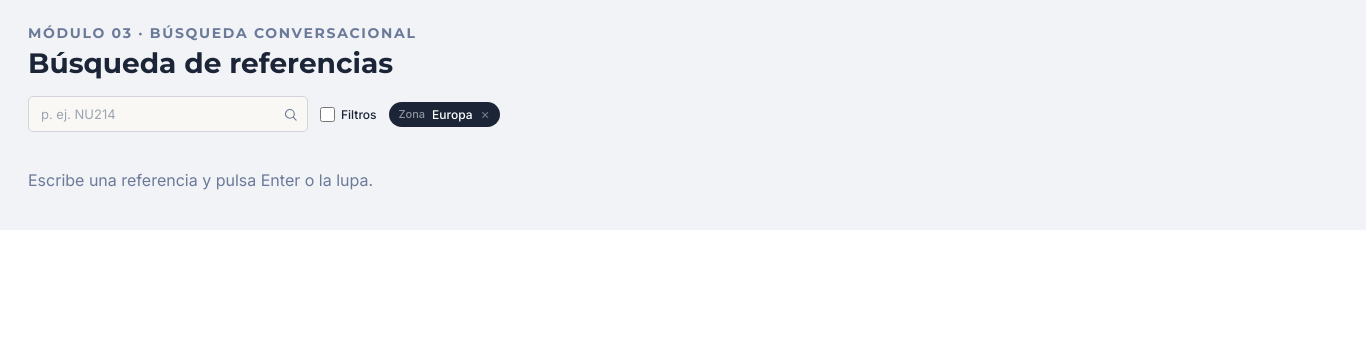
Test: fases B y C · selección y ofertas › las marcadas a mano: pide sus ofertas por clave y pinta la tabla
Type "6204" into the search field named "Referencia". click: [168, 114]
box: [28,96,308,132]
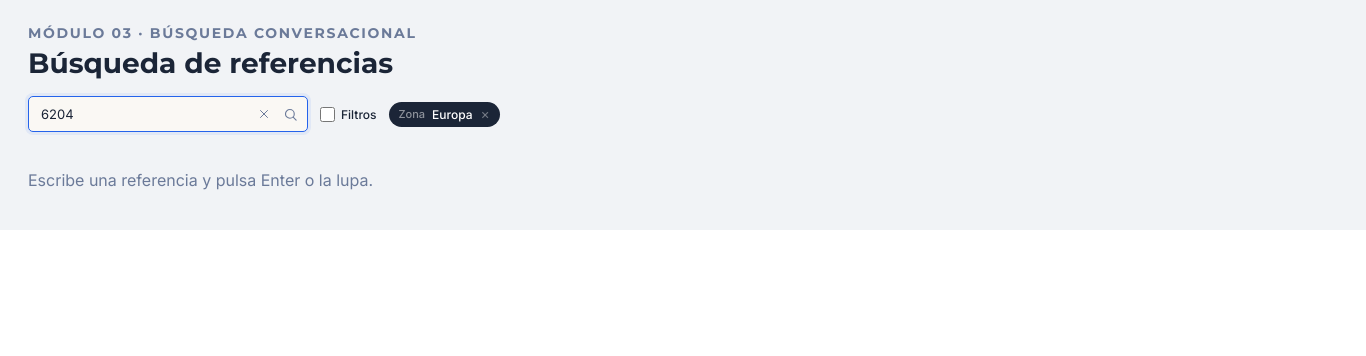
Click the button named "Buscar referencia". click: [290, 114]
box: [276,100,304,128]
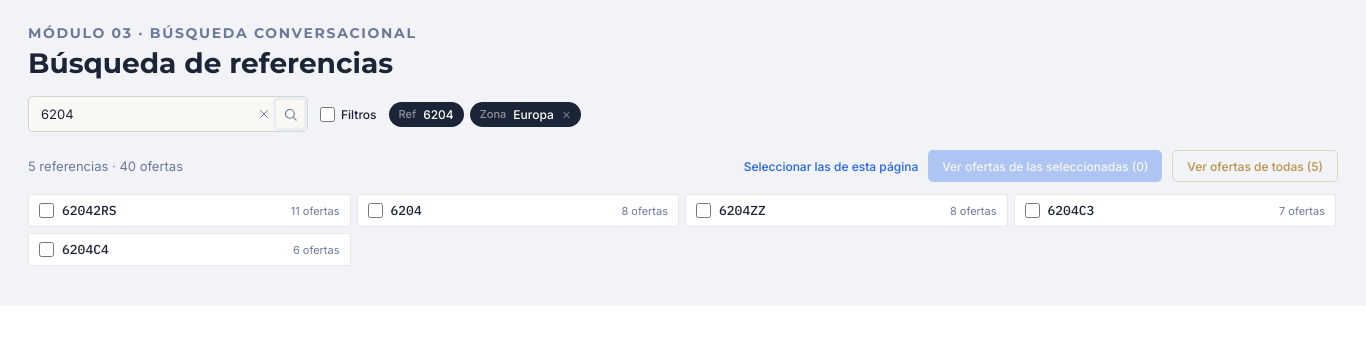
Click the checkbox labelled "62042RS 11 ofertas". click: [46, 210]
box: [39,203,54,218]
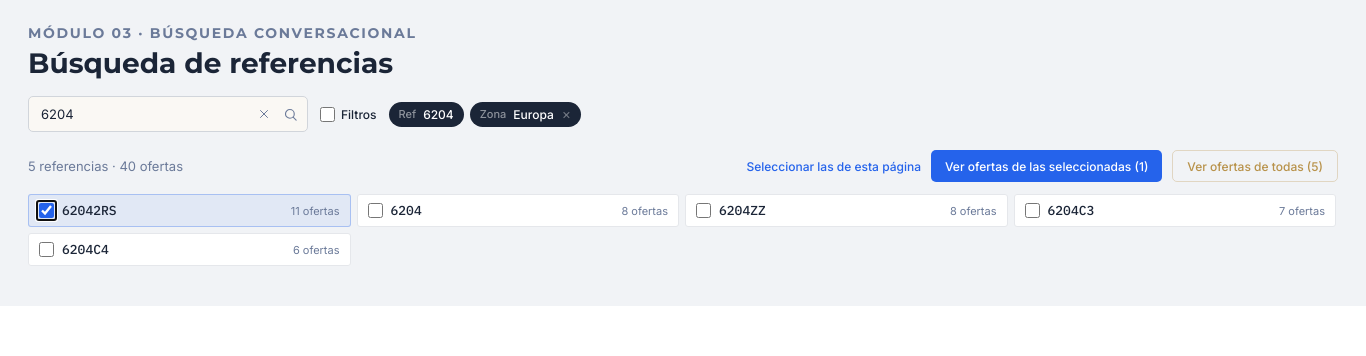
Click the checkbox labelled "6204ZZ 8 ofertas". click: [704, 210]
box: [696,203,711,218]
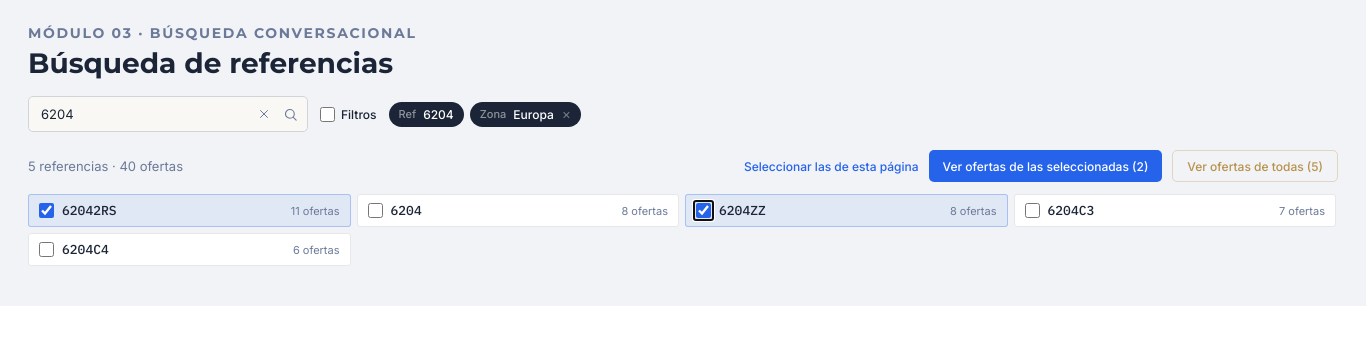
Click the button "Ver ofertas de las seleccionadas (2)". click: [1045, 166]
box: [928,150,1162,182]
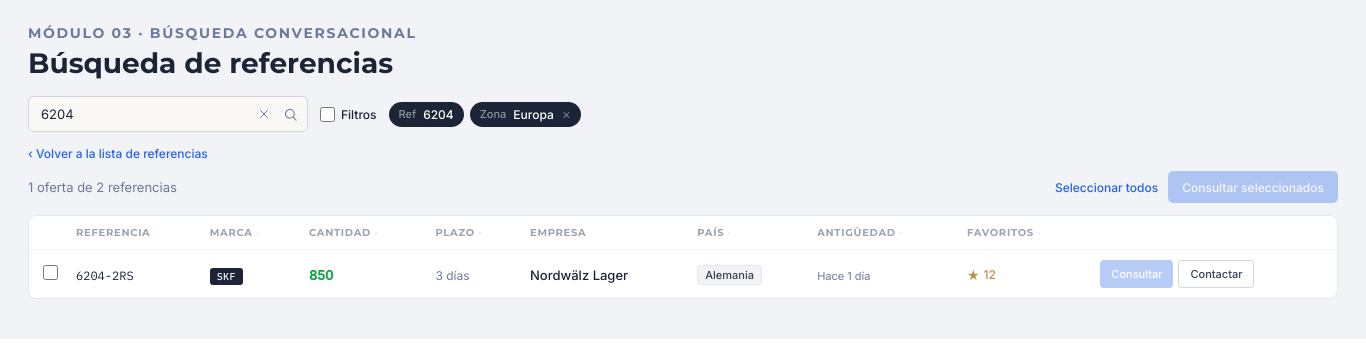
Now the text "1 oferta de 2 referencias" is shown, box [28,179,177,195]
Now the text "Nordwälz Lager" is shown, box [530,267,628,283]
